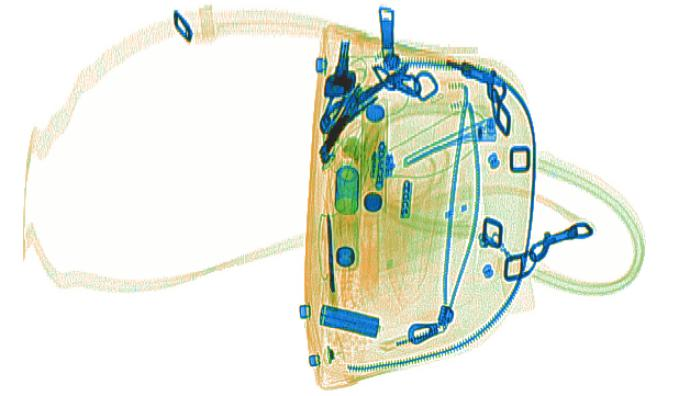battery: (317, 304, 381, 339)
